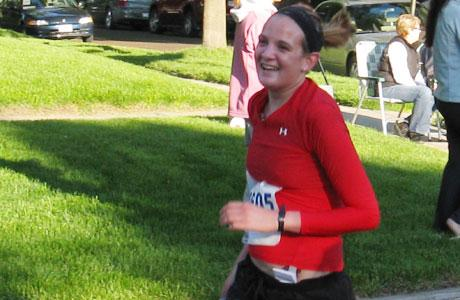person: (218, 6, 383, 300)
